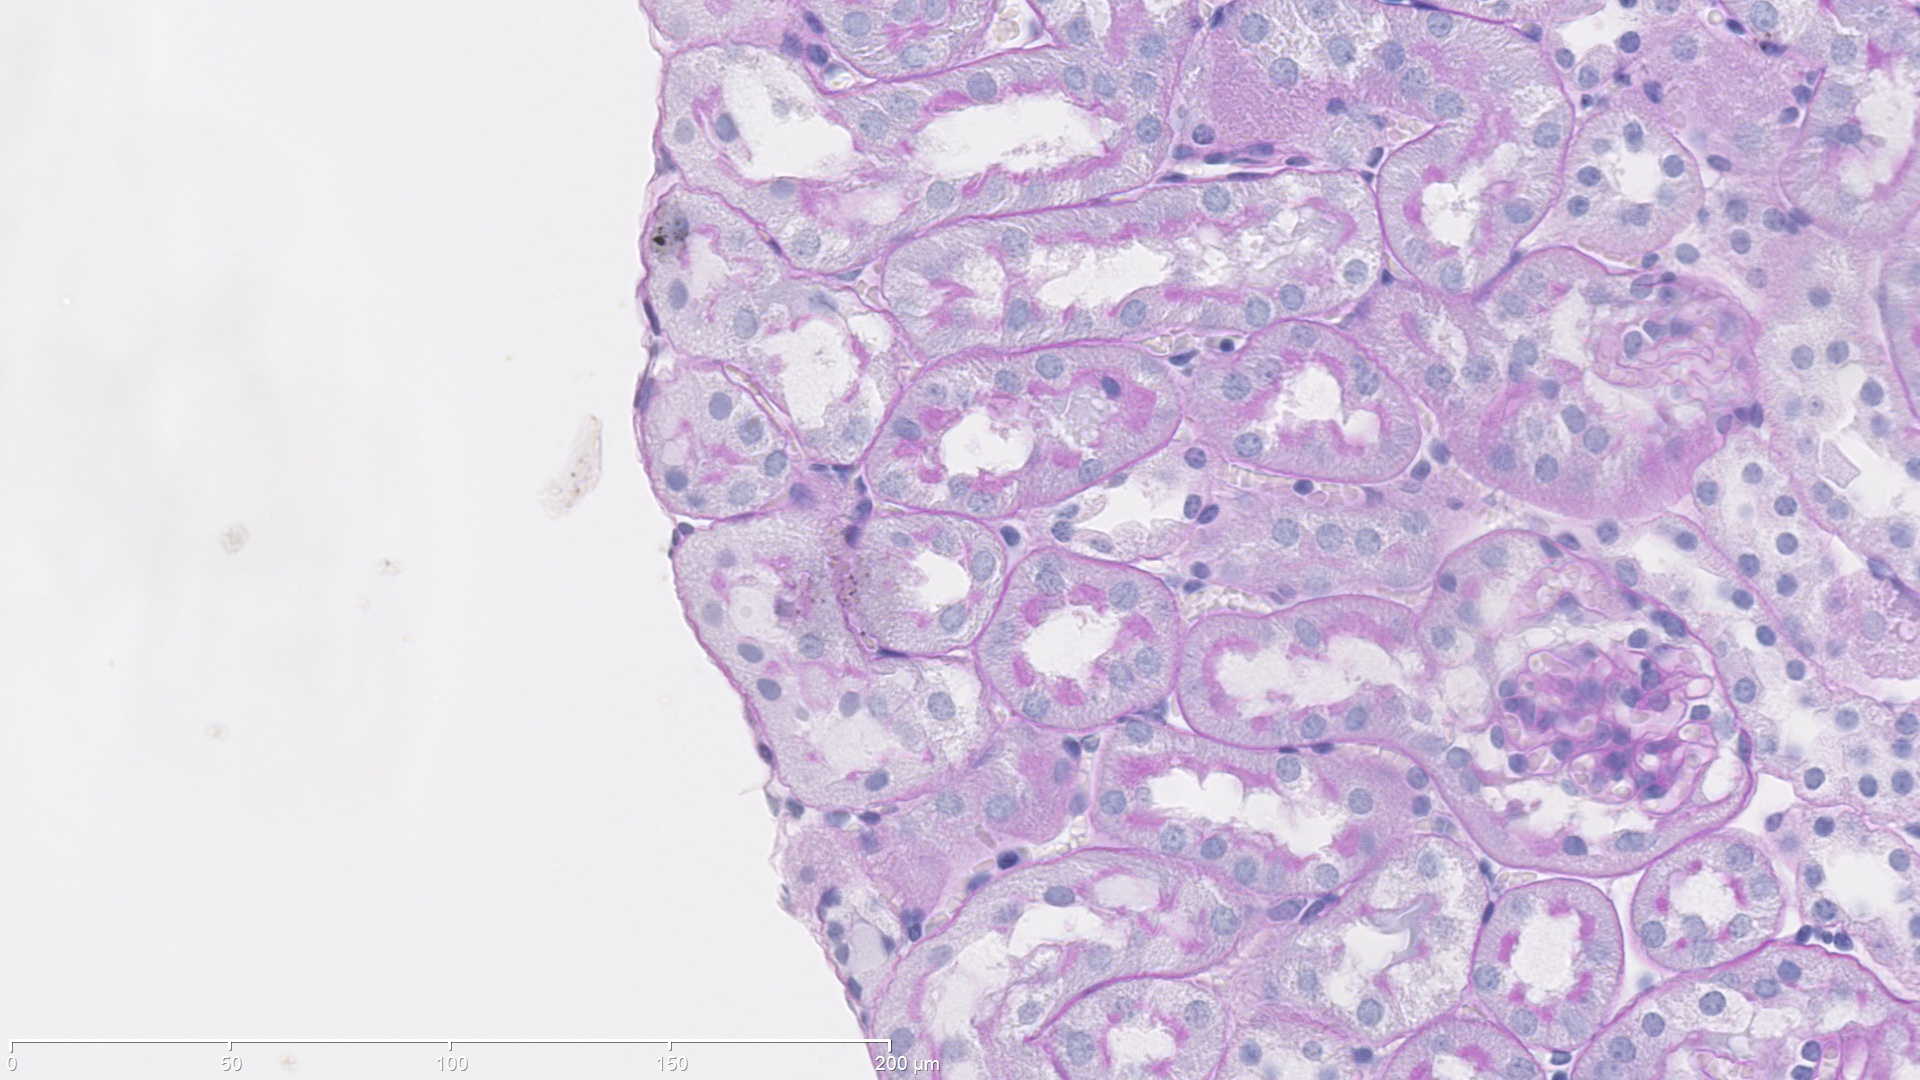Glomeruli: (1480, 622, 1753, 836)
